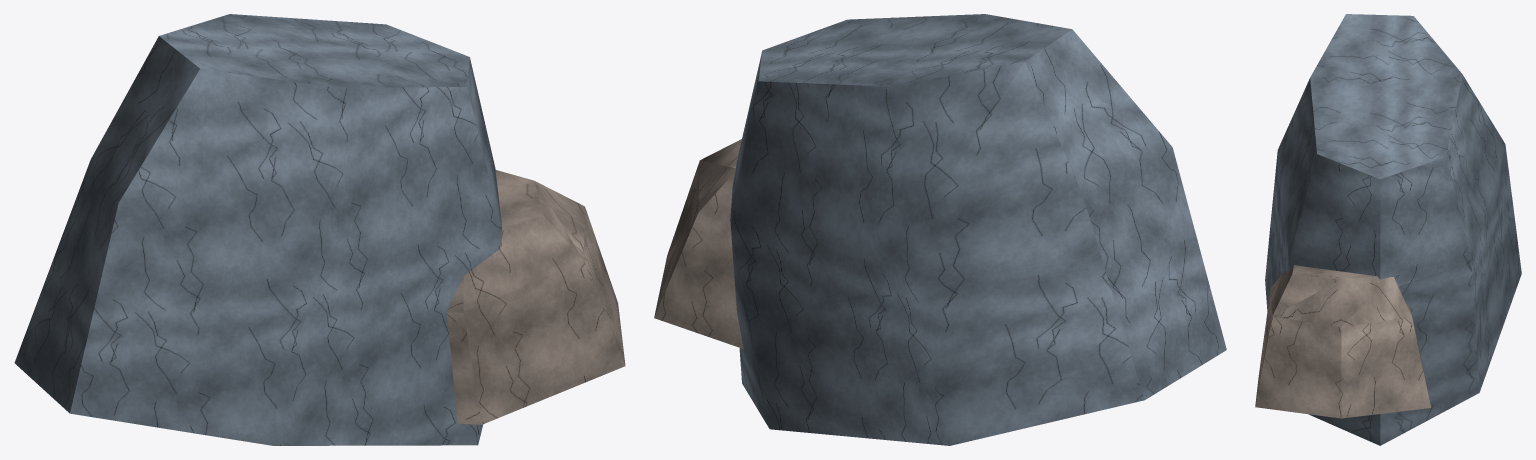
Rendered from fractured_slab.glb.
3 renders of one model, left to right at view 1: azimuth 30°, elevation 25°; view 2: azimuth 150°, elevation 25°; view 3: azimuth 270°, elevation 25°, orthographic. The views are drawn at different scales.
Visible parts, largest first — view 1: DL008_FracturedSlab_stone_blue, DL008_FracturedSlab_stone_warm; view 2: DL008_FracturedSlab_stone_blue, DL008_FracturedSlab_stone_warm; view 3: DL008_FracturedSlab_stone_blue, DL008_FracturedSlab_stone_warm.
Part boxes in pixels (x1,y1,x2,y2): DL008_FracturedSlab_stone_blue: (14, 14, 501, 445); DL008_FracturedSlab_stone_warm: (446, 170, 625, 424); DL008_FracturedSlab_stone_blue: (730, 14, 1226, 445); DL008_FracturedSlab_stone_warm: (654, 139, 743, 348); DL008_FracturedSlab_stone_blue: (1265, 14, 1521, 445); DL008_FracturedSlab_stone_warm: (1255, 265, 1430, 418).
Bounding box in the file's own units: 3.74 × 2.69 × 2.05.
2 materials, 2 textured.
